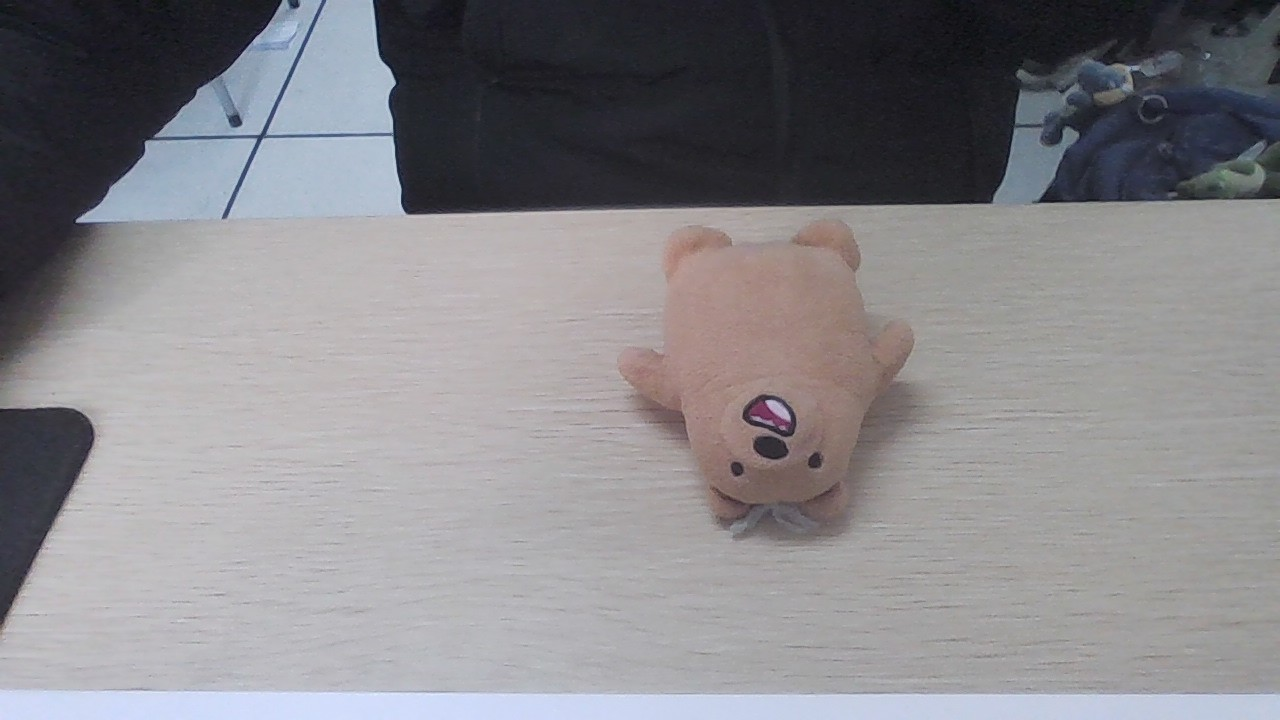KHS-doll: (626, 235, 895, 508)
